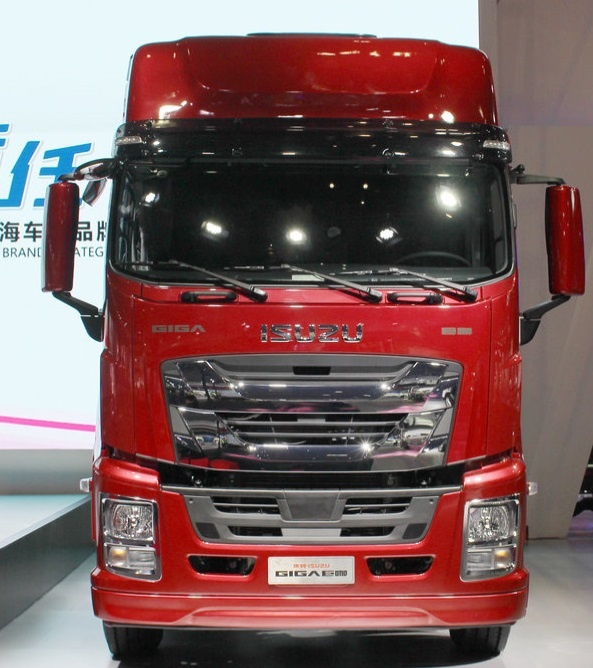heavy truck: (41, 31, 582, 664)
